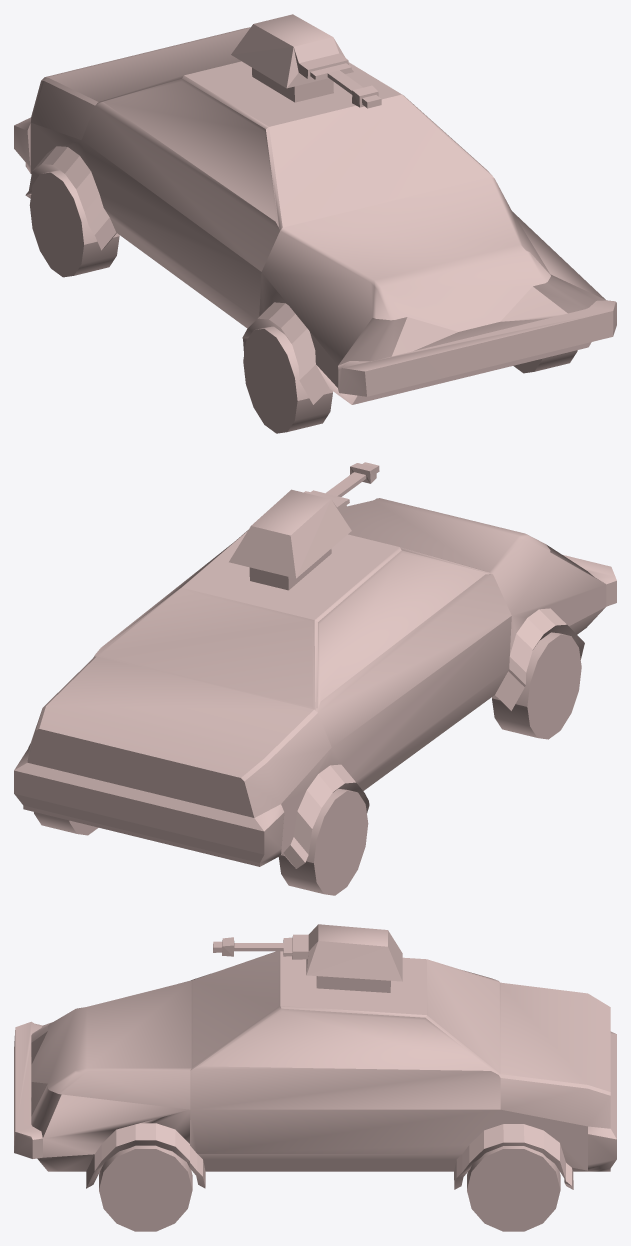
The model's file is carw.FBX.
3 renders of one model, top to bottom at view 1: azimuth 30°, elevation 25°; view 2: azimuth 150°, elevation 25°; view 3: azimuth 270°, elevation 25°, orthographic. The views are drawn at different scales.
Visible parts, largest first — view 1: Box001; view 2: Box001; view 3: Box001.
Boxes of the visible parts, box(x1,y1,x2,y2) form: Box001: box(14, 14, 616, 433); Box001: box(14, 462, 616, 895); Box001: box(14, 924, 616, 1231).
Bounding box in the file's own units: 812 × 756 × 1719.
